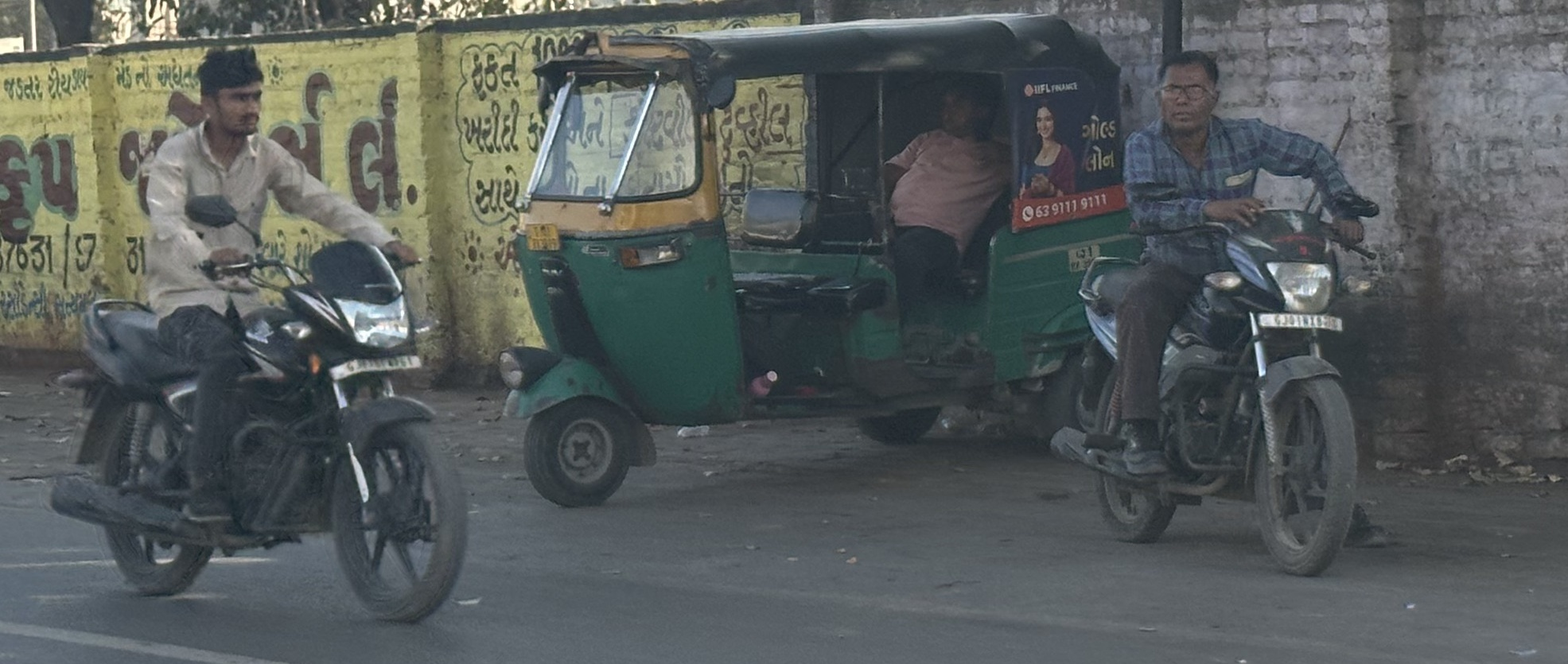BikeWithRider: (34, 37, 484, 632), (1036, 41, 1401, 582)
NoHelmet: (181, 40, 282, 143), (1142, 43, 1242, 138)
